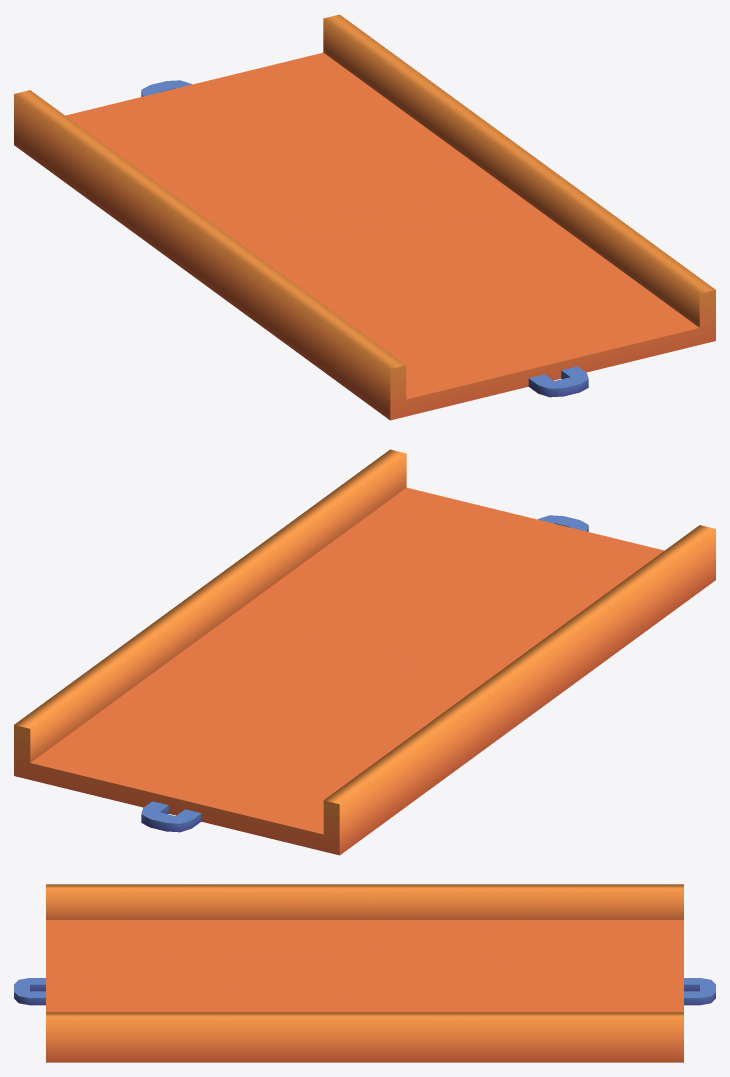
File: track-wide-straight.glb
3 views of the same model, one above another, from view 1: azimuth 30°, elevation 25°; view 2: azimuth 150°, elevation 25°; view 3: azimuth 270°, elevation 25° (orthographic). The views are drawn at different scales.
Parts seen in each view (by area): view 1: track-wide-straight; view 2: track-wide-straight; view 3: track-wide-straight.
Part boxes in pixels (bbox=[...]): track-wide-straight: bbox=[14, 14, 715, 420]; track-wide-straight: bbox=[14, 449, 715, 855]; track-wide-straight: bbox=[14, 884, 715, 1062].
Bounding box in the file's own units: 2 × 0.3 × 4.4.
Materials: 1 (1 with a texture image).
